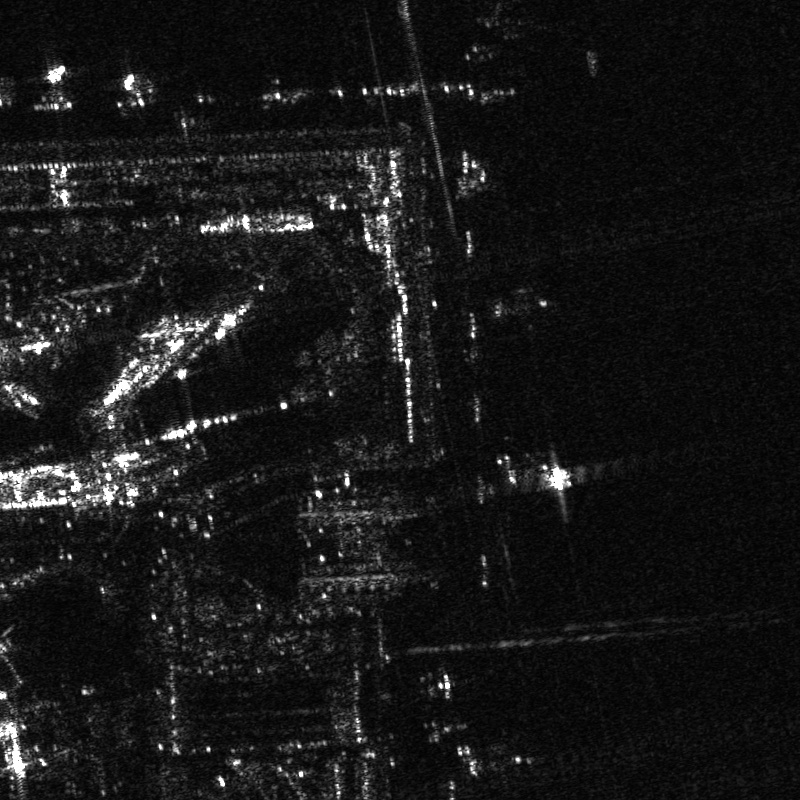A220: (483, 419, 602, 519), (438, 734, 544, 791), (485, 273, 562, 342)
A320/321: (433, 1, 565, 75)
